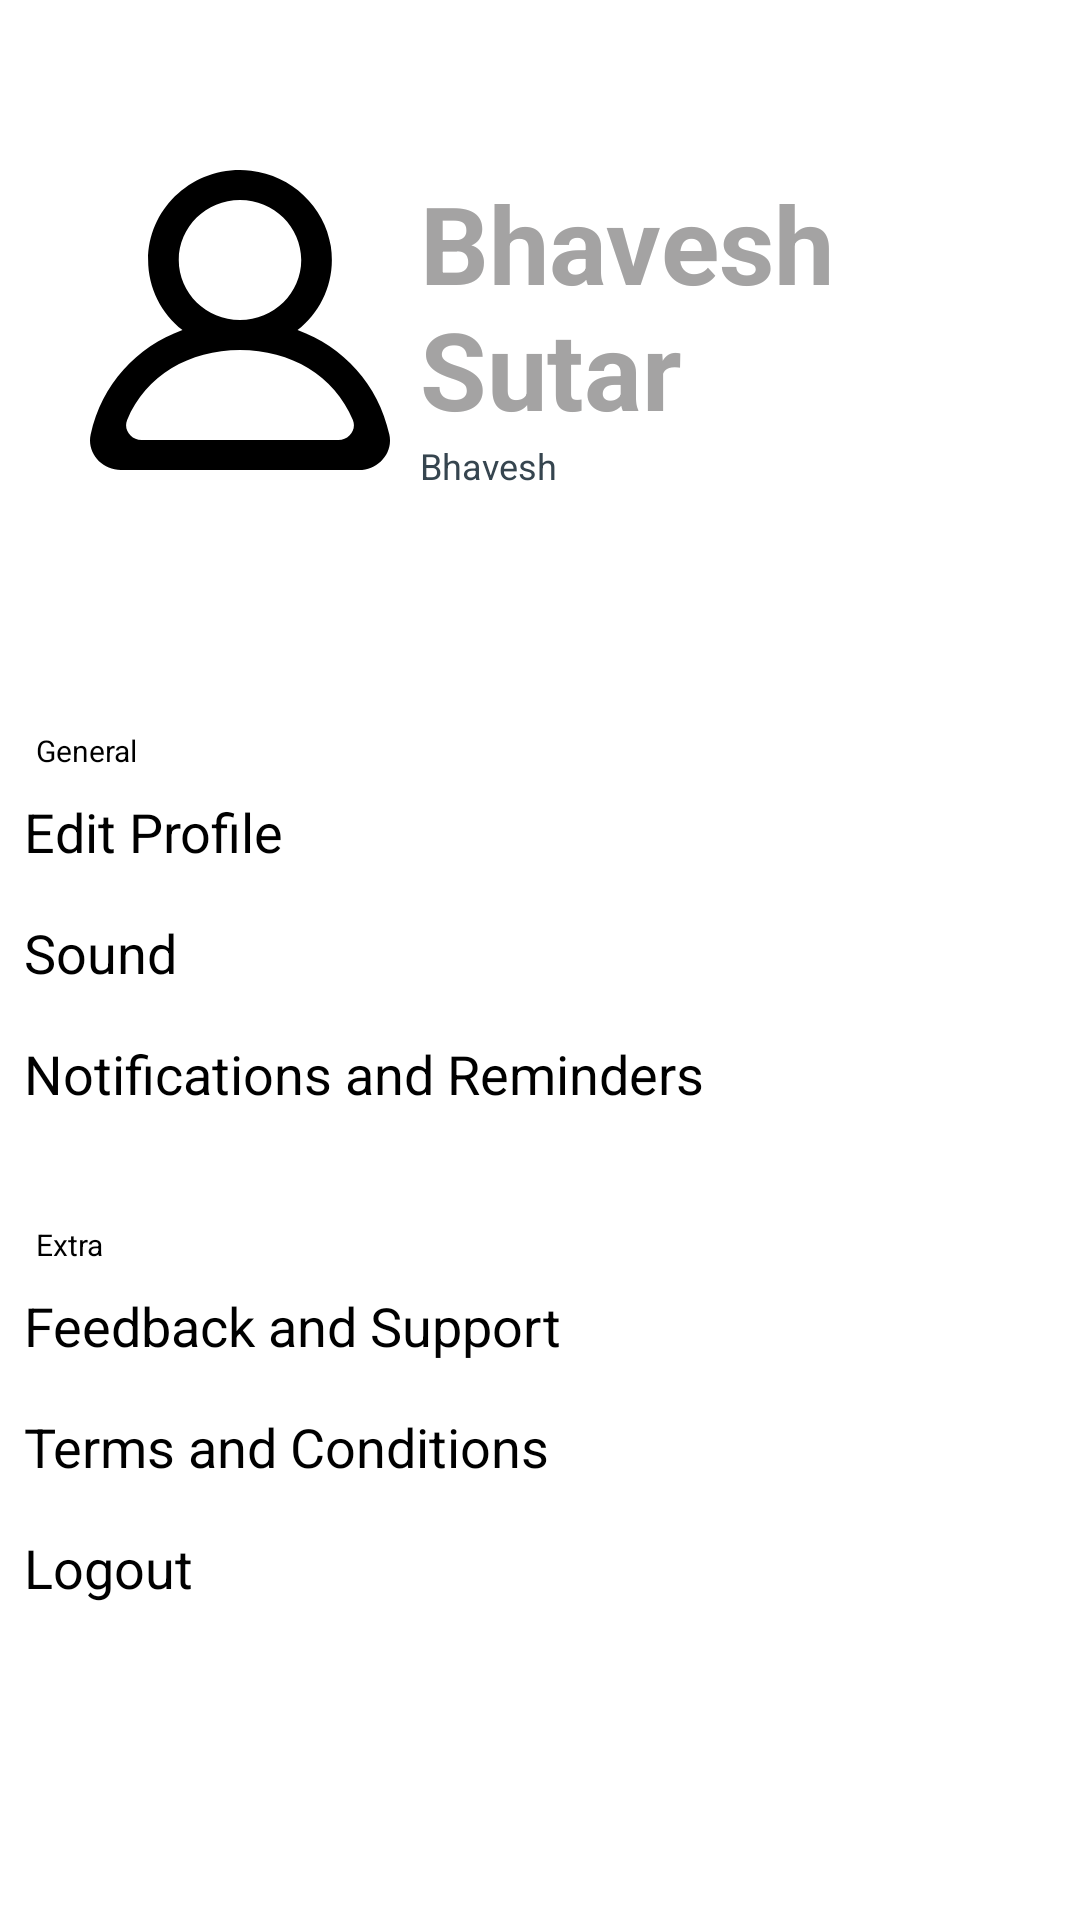

Screen size 1080×1920. Icon name, then its box in pixels as [x1=x1, y1=y1, x2=x2, y2=y2]:
Profile Image: [x1=90, y1=170, x2=390, y2=470]
